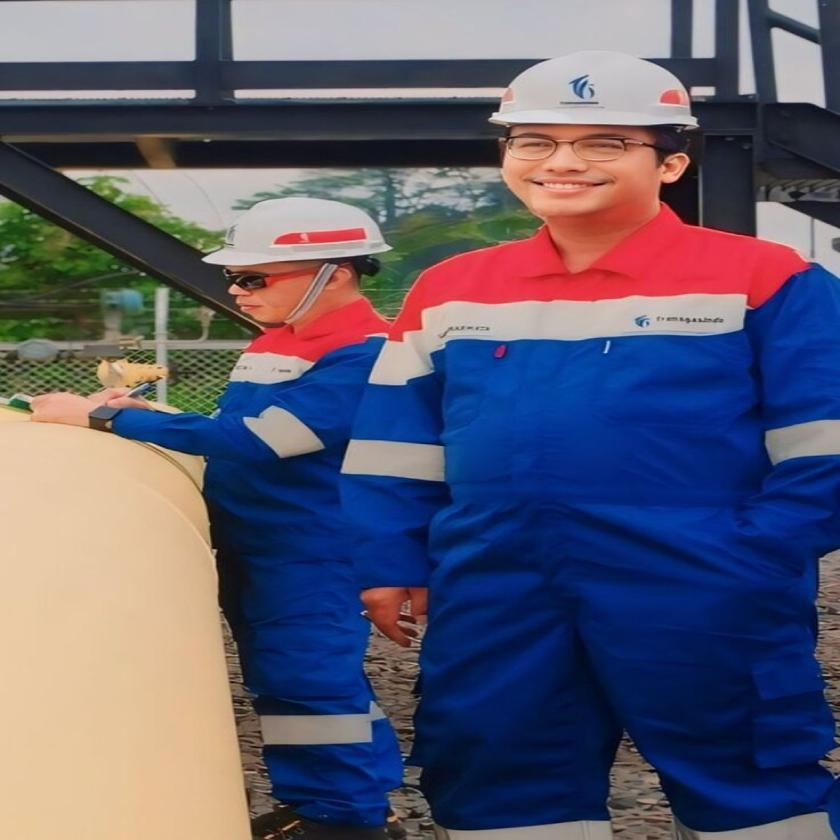Con_casco: (475, 49, 719, 245), (192, 195, 402, 332)
